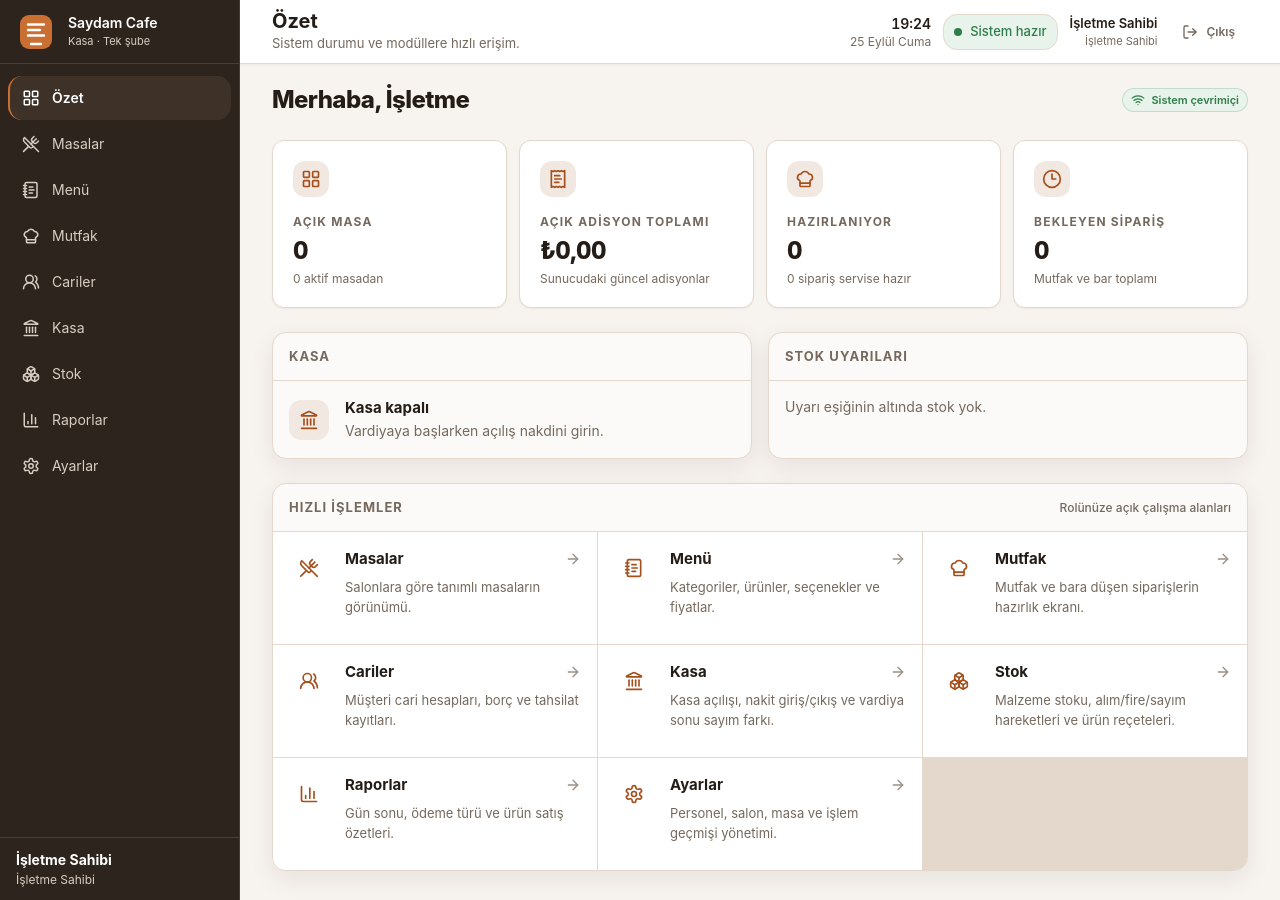
Scenario: Frontend authentication › çıkış yapınca login ekranına döner
Click the button "Çıkış" at (1209, 32), box left=1170, top=10, right=1248, bottom=54
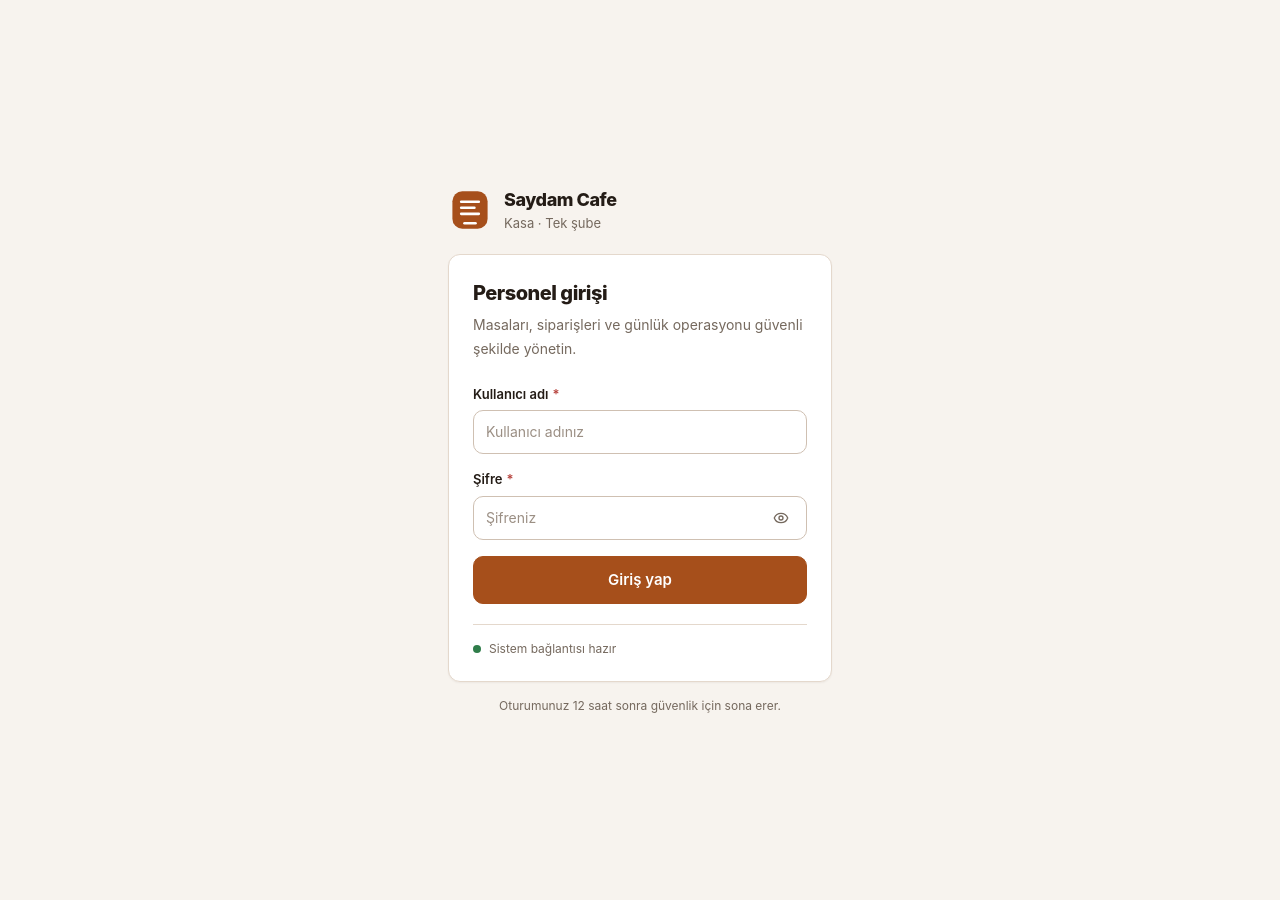
Result: the heading "Personel girişi" is shown at left=473, top=281, right=607, bottom=305
